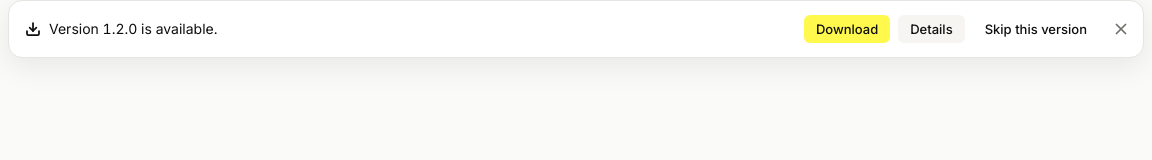
Test: UpdateBannerRow › shows the offer as a status, notes as plain text, and Download
Check: the message shows "1.2.0", box [49, 20, 218, 37]
Click the button "Details". click: (931, 29)
box: [898, 15, 965, 43]
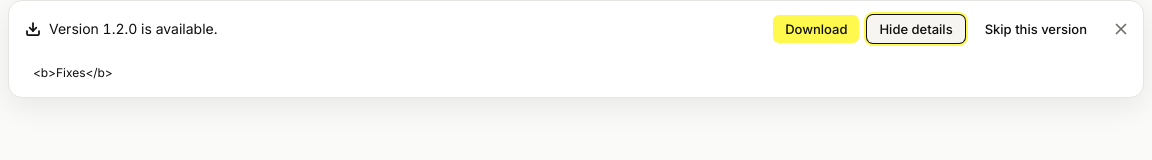
Click the button "Download". click: (816, 29)
box: [773, 15, 859, 43]
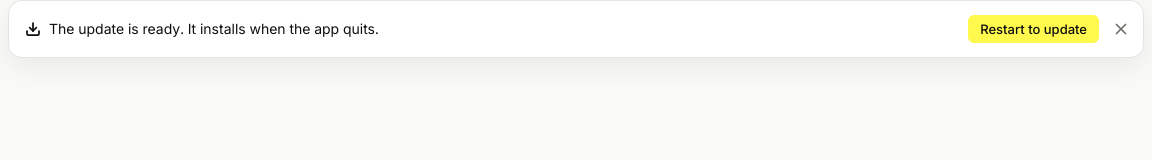
Check: the button "Restart to update" is shown, box [968, 15, 1099, 43]
